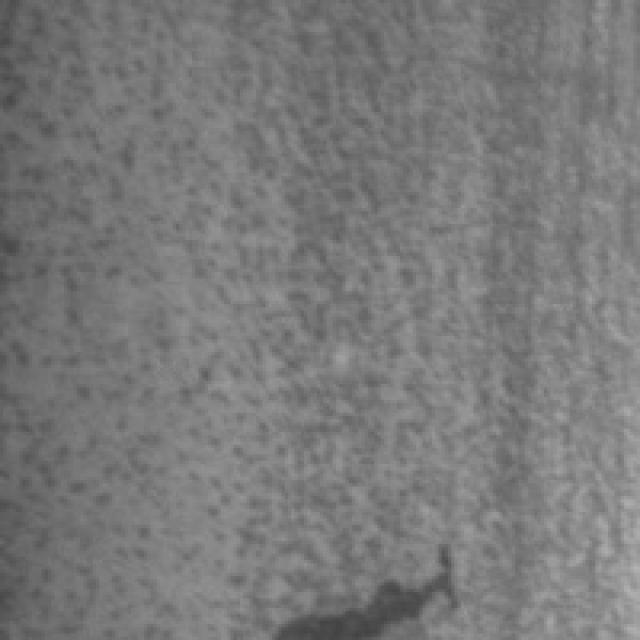pitted_surface: (182, 0, 468, 637), (10, 0, 212, 630)
